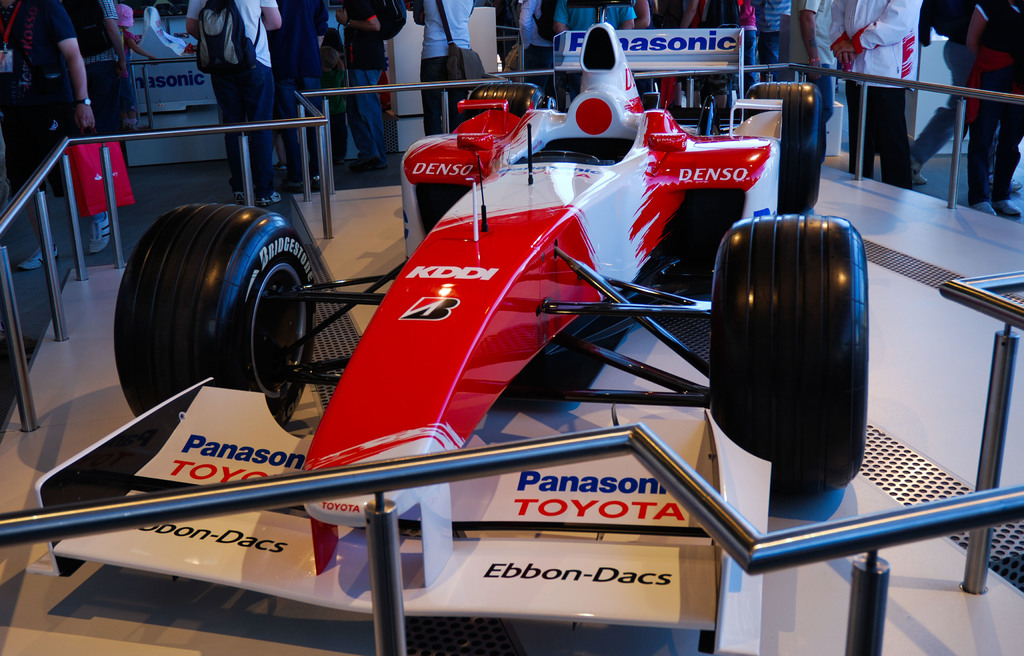Car: (36, 21, 871, 655)
